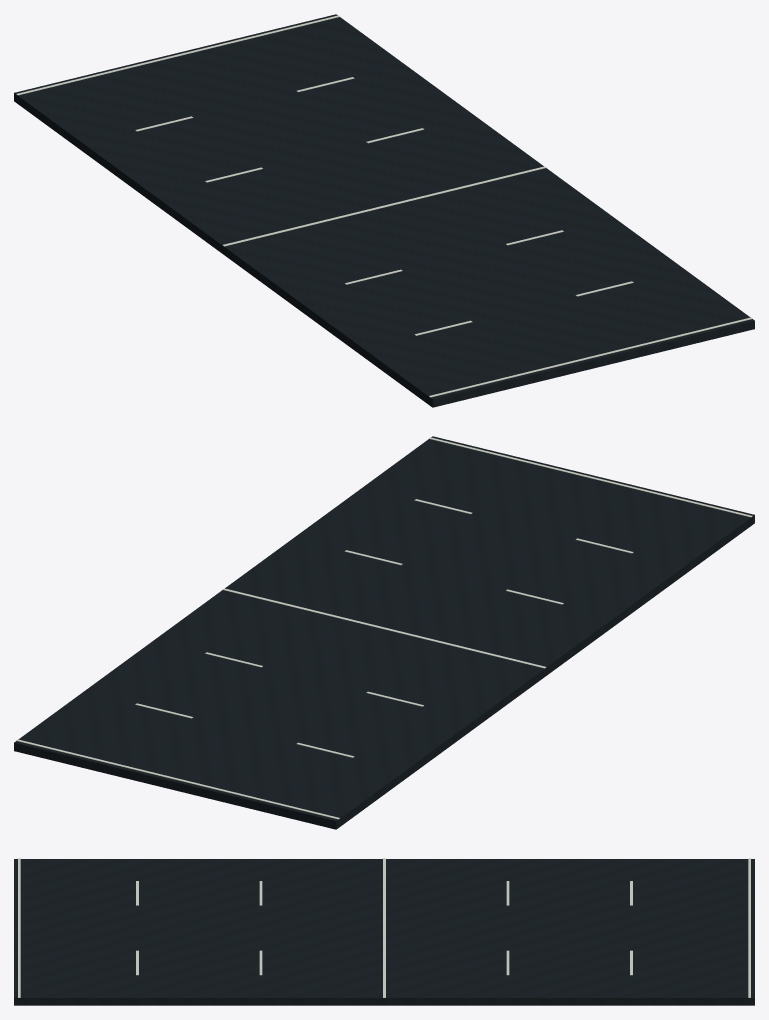
The model's file is Transit_Road_6L_Straight_8m.glb.
3 renders of one model, top to bottom at view 1: azimuth 30°, elevation 25°; view 2: azimuth 150°, elevation 25°; view 3: azimuth 270°, elevation 25°, orthographic. The views are drawn at different scales.
Visible parts, largest first — view 1: Transit_Road_6L_Straight_8m_Surface, Transit_Road_6L_Straight_8m_MarkLane3, Transit_Road_6L_Straight_8m_MarkEdge+1, Transit_Road_6L_Straight_8m_MarkEdge-1; view 2: Transit_Road_6L_Straight_8m_Surface, Transit_Road_6L_Straight_8m_MarkLane3, Transit_Road_6L_Straight_8m_MarkEdge-1, Transit_Road_6L_Straight_8m_MarkEdge+1; view 3: Transit_Road_6L_Straight_8m_Surface, Transit_Road_6L_Straight_8m_MarkLane3, Transit_Road_6L_Straight_8m_MarkEdge-1, Transit_Road_6L_Straight_8m_MarkEdge+1.
Boxes of the visible parts, left/top/right/bottom form: Transit_Road_6L_Straight_8m_Surface: left=14, top=14, right=754, bottom=407; Transit_Road_6L_Straight_8m_MarkLane3: left=222, top=166, right=546, bottom=246; Transit_Road_6L_Straight_8m_MarkEdge+1: left=16, top=15, right=339, bottom=95; Transit_Road_6L_Straight_8m_MarkEdge-1: left=429, top=317, right=752, bottom=397; Transit_Road_6L_Straight_8m_Surface: left=14, top=436, right=754, bottom=829; Transit_Road_6L_Straight_8m_MarkLane3: left=222, top=588, right=546, bottom=668; Transit_Road_6L_Straight_8m_MarkEdge-1: left=429, top=437, right=752, bottom=517; Transit_Road_6L_Straight_8m_MarkEdge+1: left=16, top=739, right=339, bottom=819; Transit_Road_6L_Straight_8m_Surface: left=14, top=859, right=754, bottom=1005; Transit_Road_6L_Straight_8m_MarkLane3: left=383, top=858, right=385, bottom=997; Transit_Road_6L_Straight_8m_MarkEdge-1: left=18, top=858, right=20, bottom=997; Transit_Road_6L_Straight_8m_MarkEdge+1: left=748, top=858, right=750, bottom=997.
Size of the model in its own units: 8 by 0.212 by 18.
2 materials, 1 textured.
